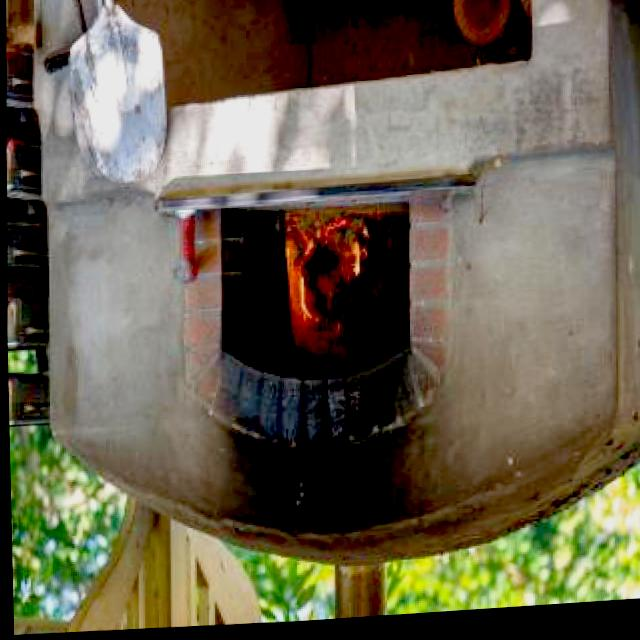Fire: (279, 218, 378, 365)
